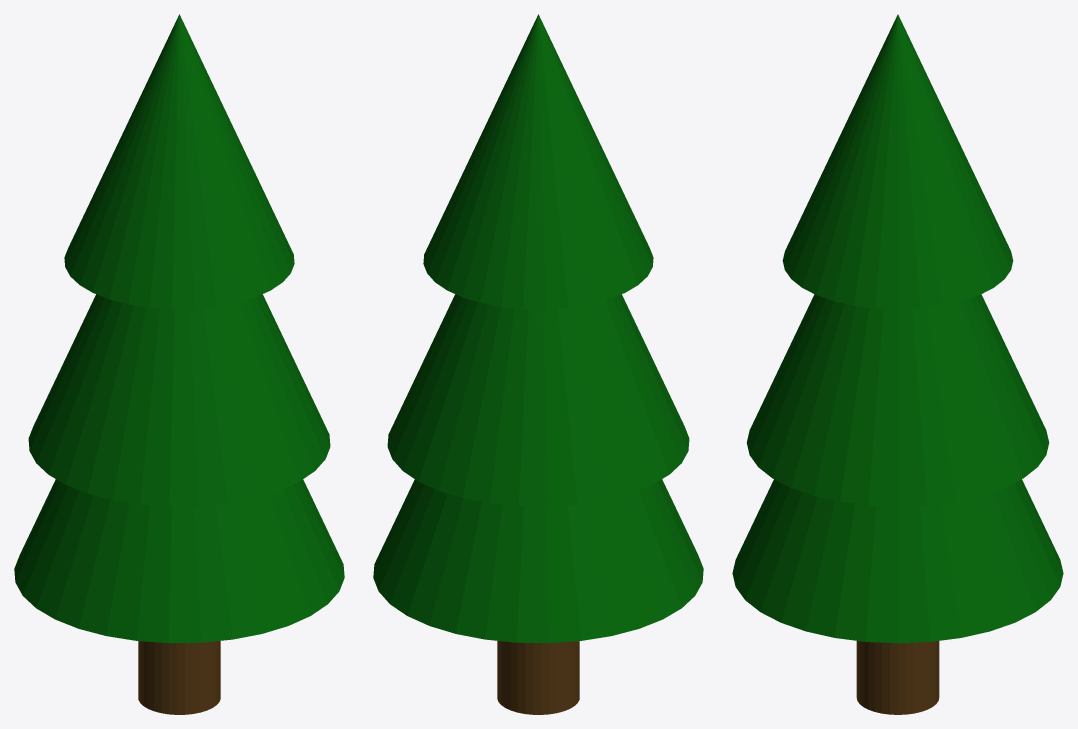
Rendered from Tree.fbx.
3 views of the same model, side by side, from view 1: azimuth 30°, elevation 25°; view 2: azimuth 150°, elevation 25°; view 3: azimuth 270°, elevation 25° (orthographic).
Parts seen in each view (by area): view 1: Cone.001, Cone, Cone.002, Cylinder; view 2: Cone.001, Cone, Cone.002, Cylinder; view 3: Cone.001, Cone, Cone.002, Cylinder.
Boxes of the visible parts, x1,y1,x2,y2 form: Cone.001: [28, 294, 330, 506]; Cone: [14, 479, 344, 643]; Cone.002: [64, 14, 294, 309]; Cylinder: [138, 641, 220, 714]; Cone.001: [387, 294, 689, 506]; Cone: [373, 479, 703, 643]; Cone.002: [423, 14, 653, 309]; Cylinder: [497, 641, 579, 714]; Cone.001: [746, 294, 1049, 506]; Cone: [732, 479, 1063, 643]; Cone.002: [782, 14, 1013, 309]; Cylinder: [856, 641, 939, 714].
Bounding box in the file's own units: 331 × 753 × 331.
